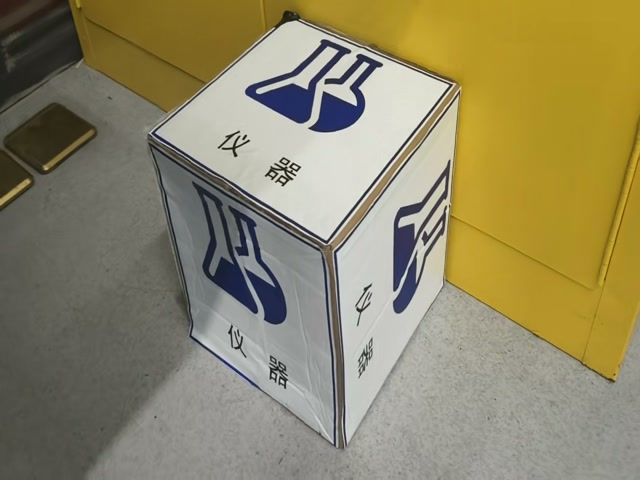Cube_ins: (140, 17, 459, 251)
